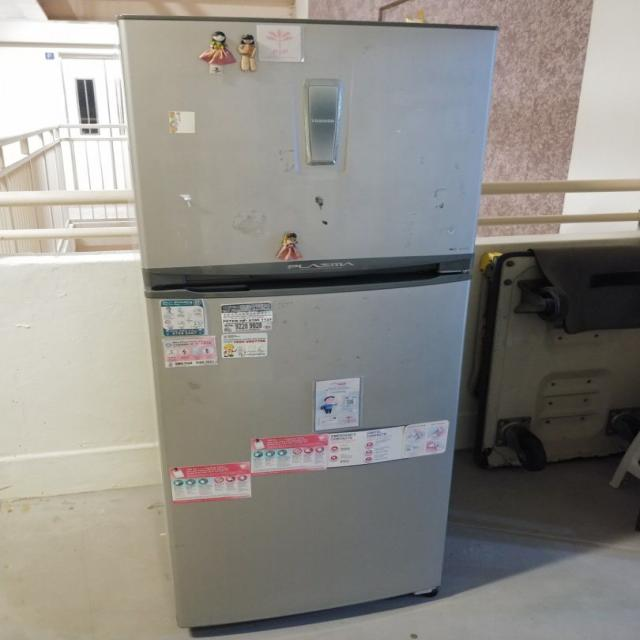refrigerator: (115, 14, 502, 628)
